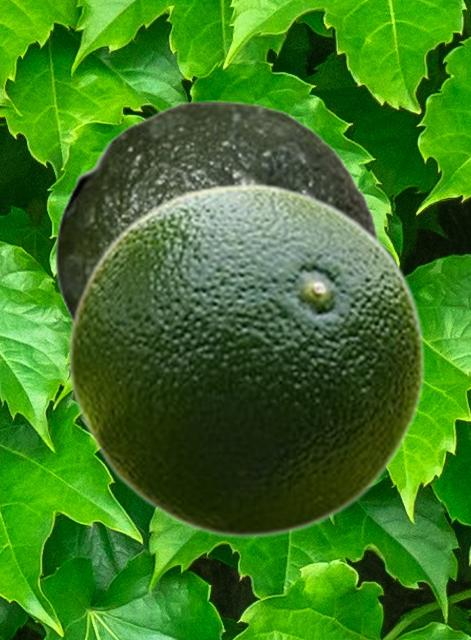calamansi: (66, 182, 426, 537), (54, 100, 381, 323)
